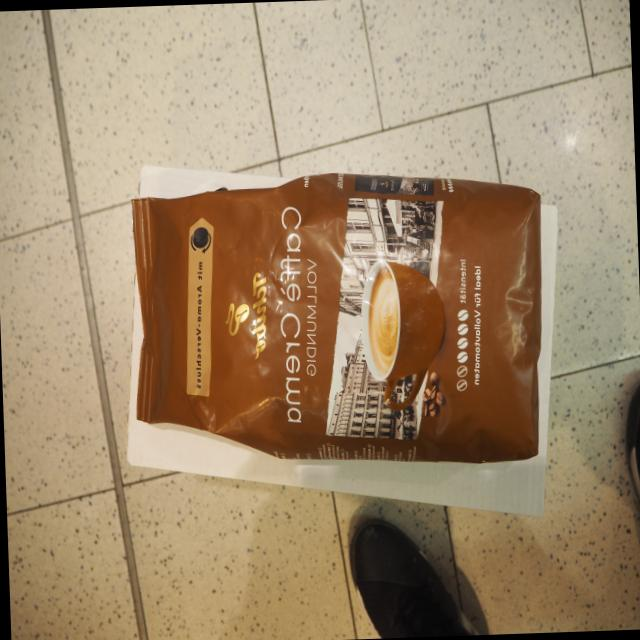CC Vollmundig 36 Pads: (123, 160, 553, 474)
